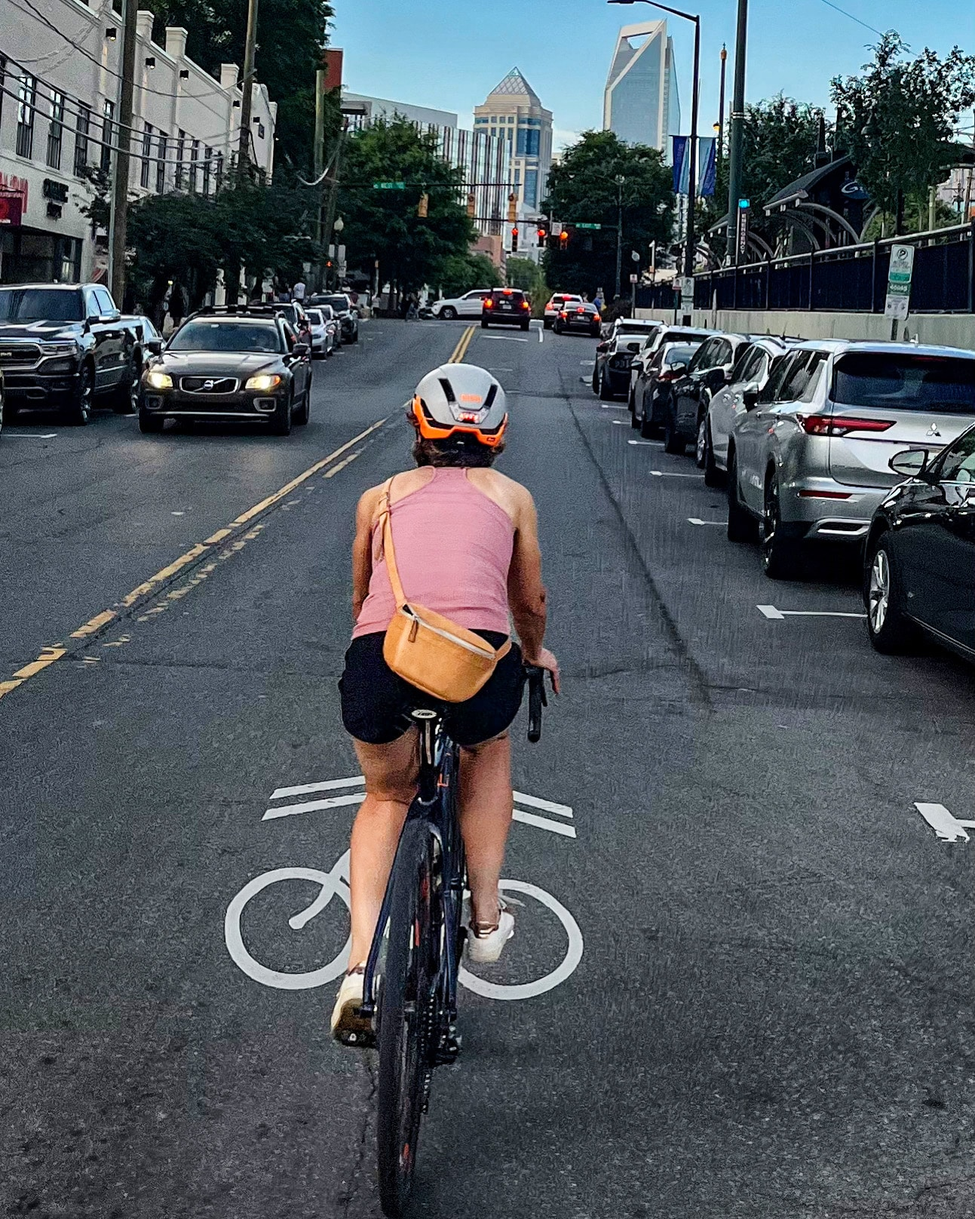Bicycle: (341, 711, 527, 1166)
Car: (743, 330, 975, 570), (135, 292, 322, 438), (7, 273, 141, 419), (634, 332, 754, 441), (532, 273, 612, 337)
Person: (332, 369, 534, 978)
